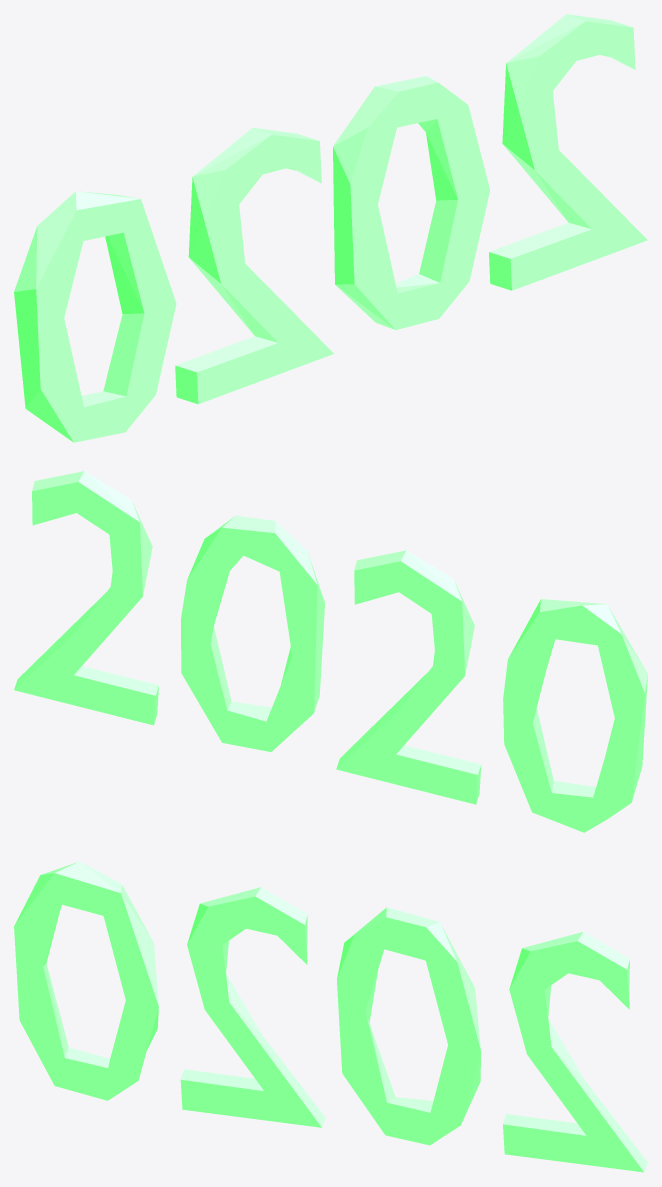
3 renders of one model, top to bottom at view 1: azimuth 30°, elevation 25°; view 2: azimuth 150°, elevation 25°; view 3: azimuth 330°, elevation 25°, orthographic. The views are drawn at different scales.
Visible parts, largest first — view 1: Text1_2020_Green.001; view 2: Text1_2020_Green.001; view 3: Text1_2020_Green.001.
Part boxes in pixels (x1=…): Text1_2020_Green.001: x1=14, y1=14, x2=647, y2=442; Text1_2020_Green.001: x1=14, y1=471, x2=647, y2=832; Text1_2020_Green.001: x1=14, y1=861, x2=647, y2=1172.
Size of the model in its own units: 3.94 by 1.58 by 0.5192.
